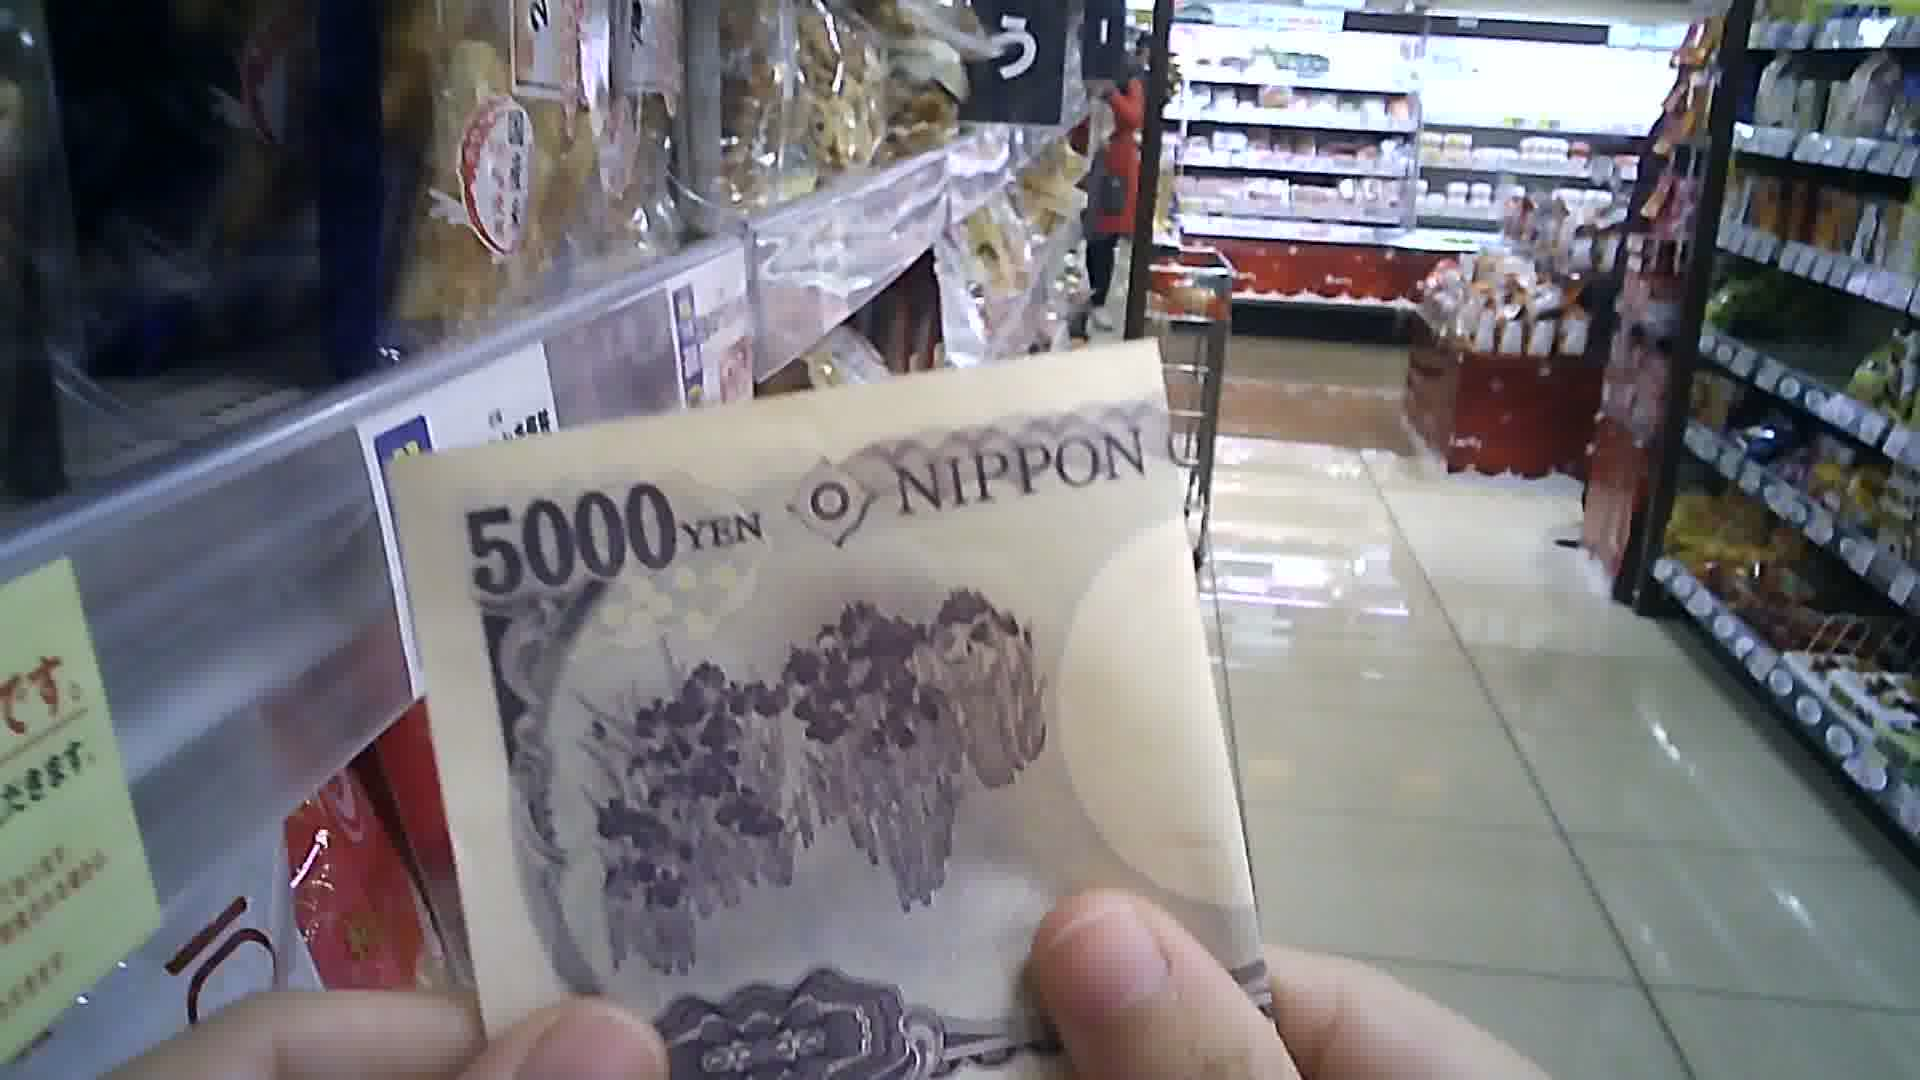5,000 Yen: (388, 355, 1298, 1079)
